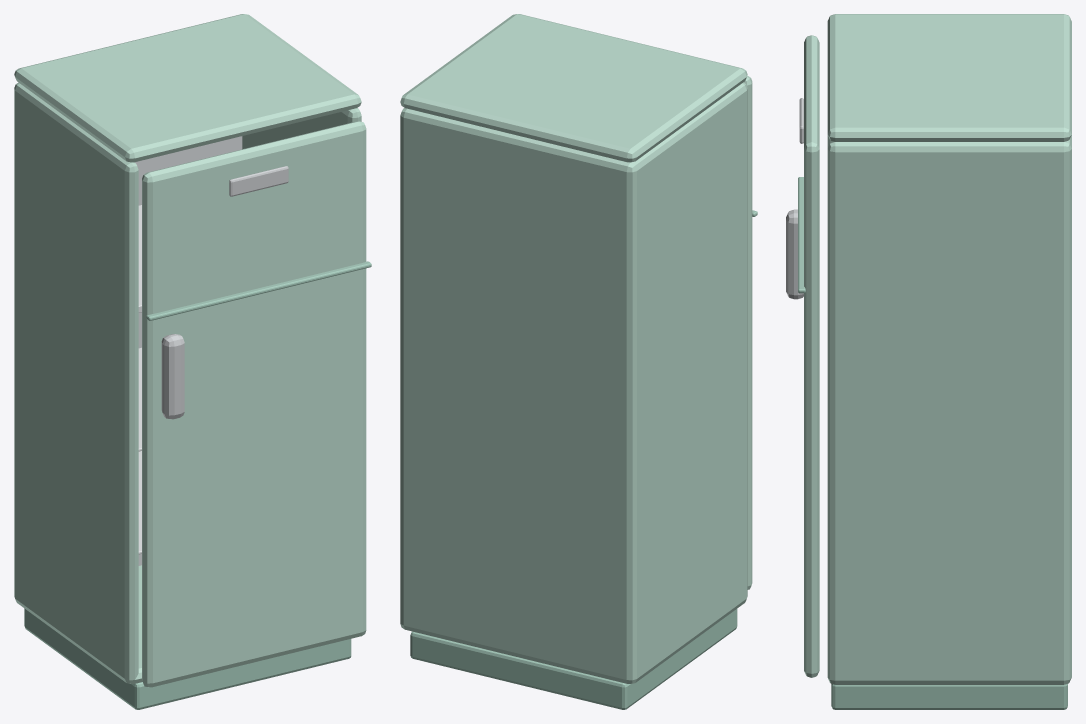
File: fridgeRetro.glb
3 renders of one model, left to right at view 1: azimuth 30°, elevation 25°; view 2: azimuth 150°, elevation 25°; view 3: azimuth 270°, elevation 25°, orthographic. The views are drawn at different scales.
Visible parts, largest first — view 1: door, body, lever; view 2: body, door; view 3: body, door, lever.
Boxes of the visible parts, <box> form: door: <box>142,121,371,687</box>; body: <box>14,14,361,709</box>; lever: <box>161,334,184,419</box>; body: <box>400,14,747,709</box>; door: <box>743,75,757,589</box>; body: <box>827,14,1071,709</box>; door: <box>798,35,819,677</box>; lever: <box>786,209,803,299</box>.
Size of the model in its own units: 0.72 by 1.64 by 0.725.
